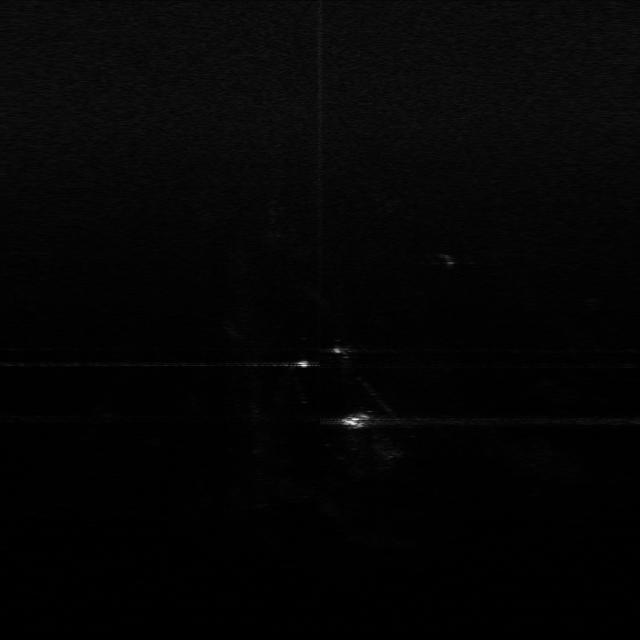rov: (333, 407, 377, 433)
